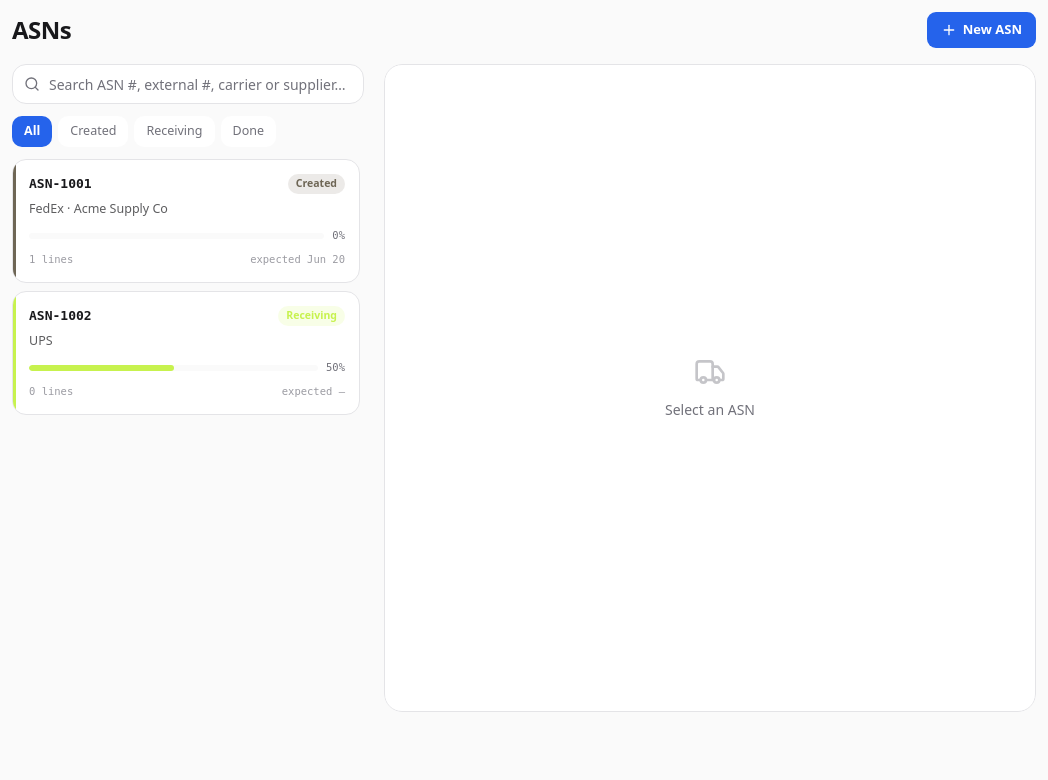
Scenario: AsnsPage › opens the create form with header fields incl. supplier and sender
What coordinates should you click on to do the following:
click the button "New ASN"
I would click on:
 (981, 30)
Its box is [927,12,1036,48].
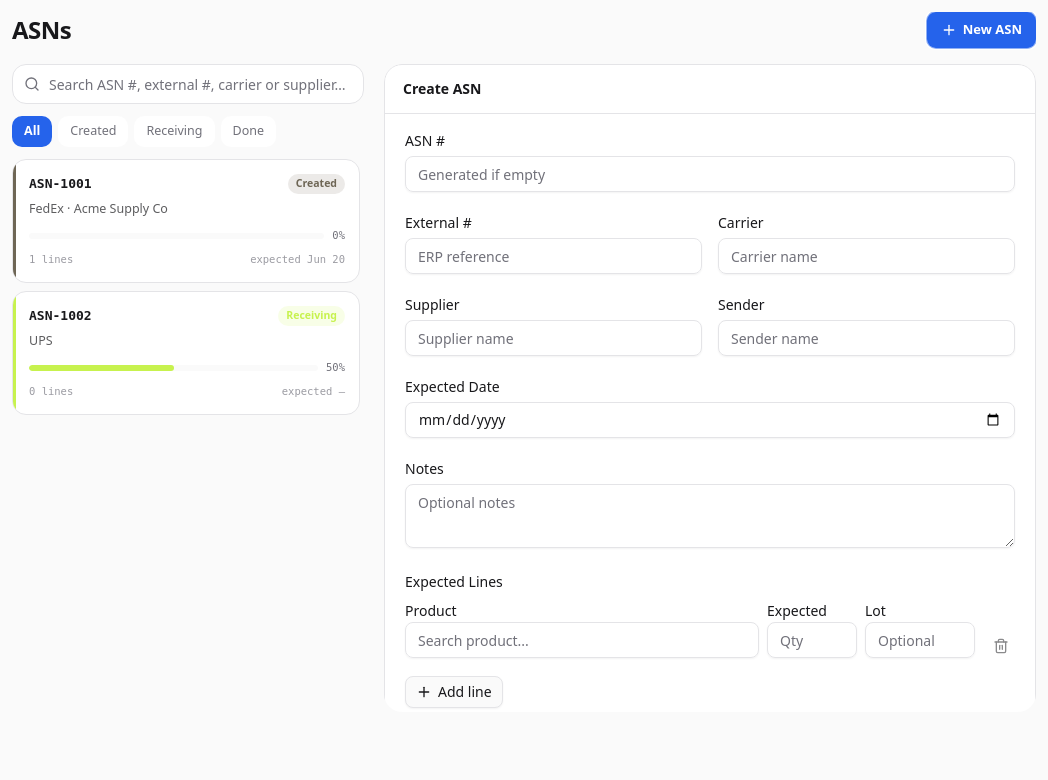
expect the field labelled "Supplier" is shown: met, box [405,320,702,356]
expect the field labelled "Sender" is shown: met, box [718,320,1015,356]
